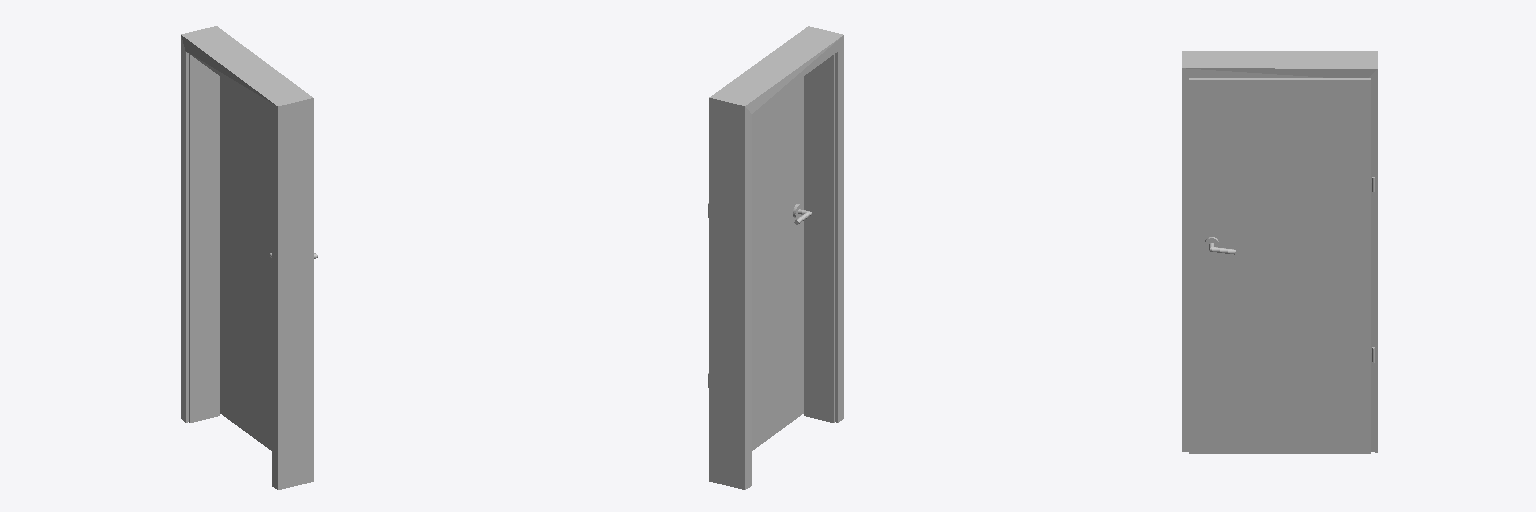
File: door22.obj
3 renders of one model, left to right at view 1: azimuth 30°, elevation 25°; view 2: azimuth 150°, elevation 25°; view 3: azimuth 270°, elevation 25°, orthographic.
Visible parts, largest first — view 1: Cylinder.005, Cylinder.001; view 2: Cylinder.005, Cylinder.001; view 3: Cylinder.001, Cylinder.005.
Part boxes in pixels (left/top/right/bottom): Cylinder.005: left=181, top=26, right=313, bottom=489; Cylinder.001: left=220, top=77, right=271, bottom=450; Cylinder.005: left=708, top=26, right=843, bottom=489; Cylinder.001: left=708, top=77, right=803, bottom=450; Cylinder.001: left=1189, top=78, right=1374, bottom=453; Cylinder.005: left=1182, top=51, right=1377, bottom=452.
Bounding box in the file's own units: 0.3039 × 2.05 × 0.95.